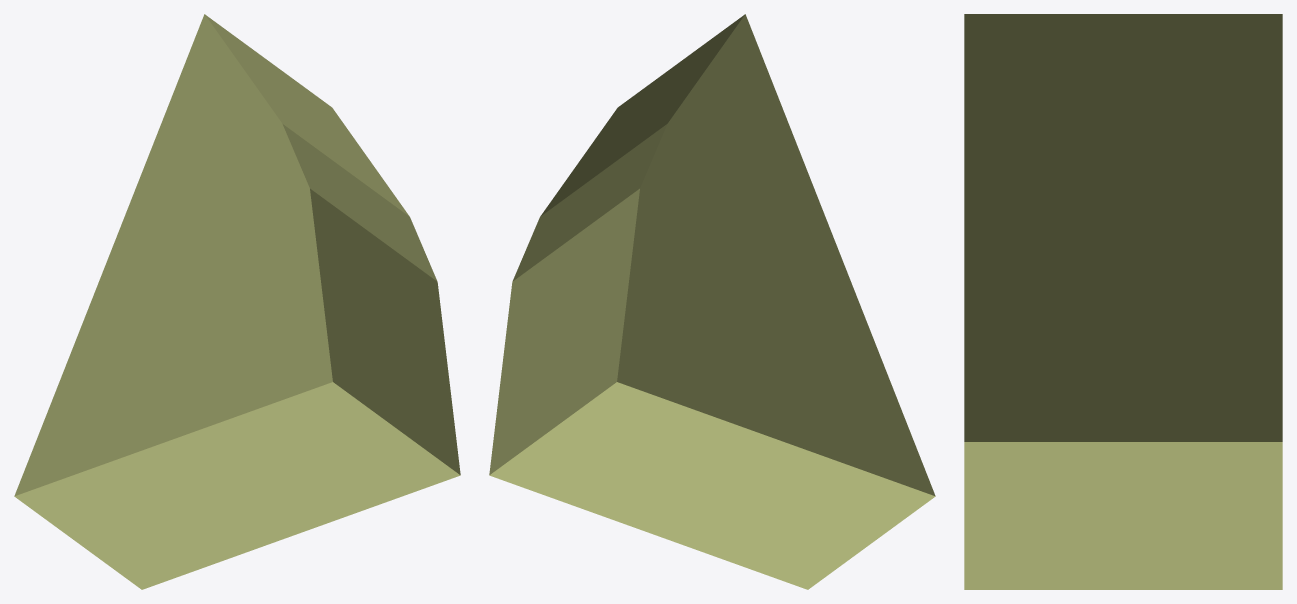
3 views of the same model, side by side, from view 1: azimuth 30°, elevation 25°; view 2: azimuth 150°, elevation 25°; view 3: azimuth 270°, elevation 25° (orthographic). The views are drawn at different scales.
Visible parts, largest first — view 1: 0_1_0_2_0_0_0_1_3_3; view 2: 0_1_0_2_0_0_0_1_3_3; view 3: 0_1_0_2_0_0_0_1_3_3.
Boxes of the visible parts, x1,y1,x2,y2 form: 0_1_0_2_0_0_0_1_3_3: (14,14,460,589); 0_1_0_2_0_0_0_1_3_3: (489,14,935,589); 0_1_0_2_0_0_0_1_3_3: (964,14,1282,589).
Bounding box in the file's own units: 8.64 × 11.3 × 6.
